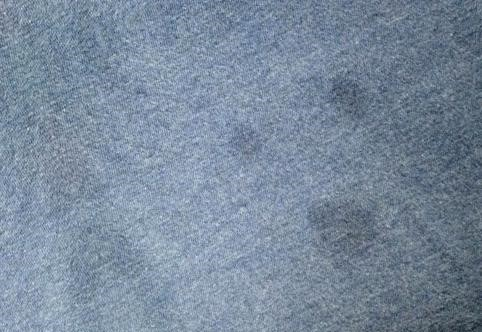stain: (305, 192, 381, 271), (322, 73, 373, 121), (231, 114, 264, 164)
